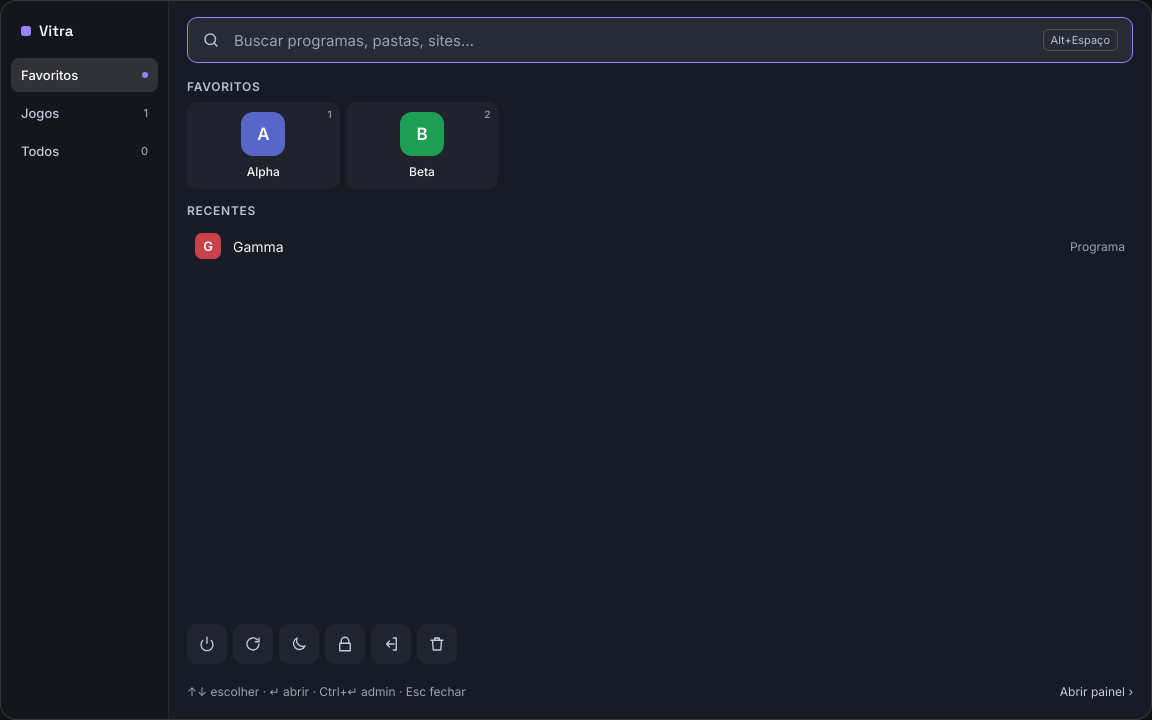
Test: QuickLauncher com itens › trocar para uma categoria mostra os itens dela
Click the button "Jogos 1" at (84,113), box [11, 96, 158, 130]
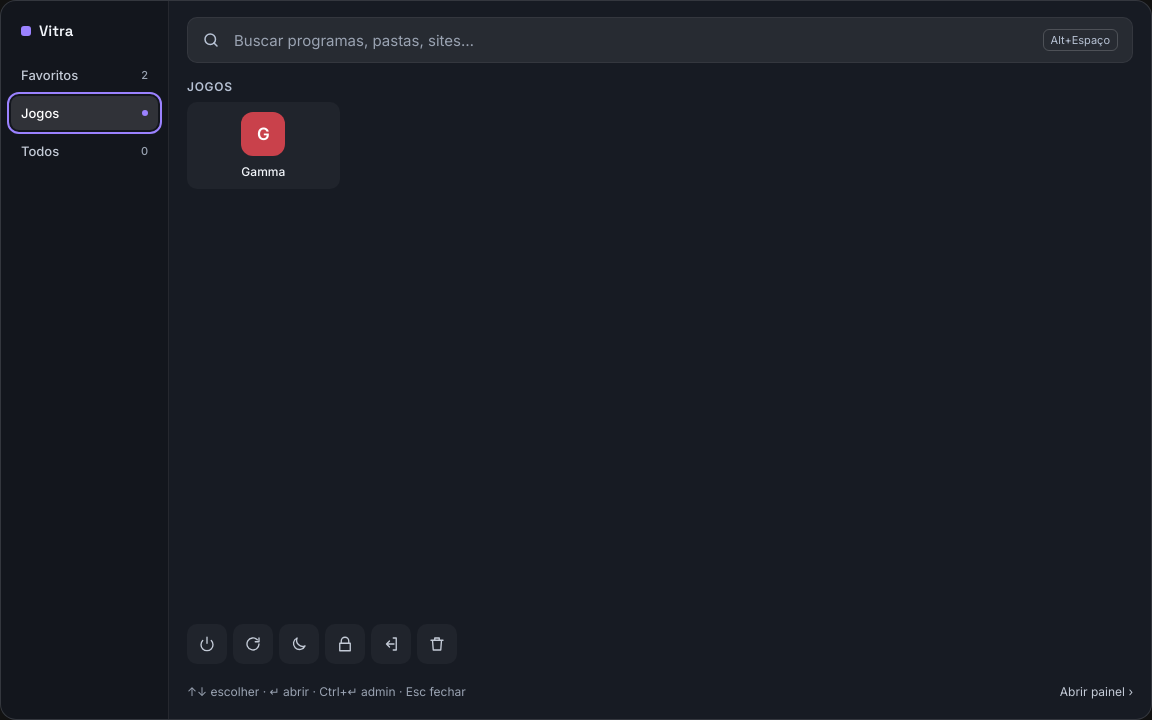
Expected: the button "G Gamma" is shown, [187, 102, 340, 189]
Expected: the button "Alpha" is gone
